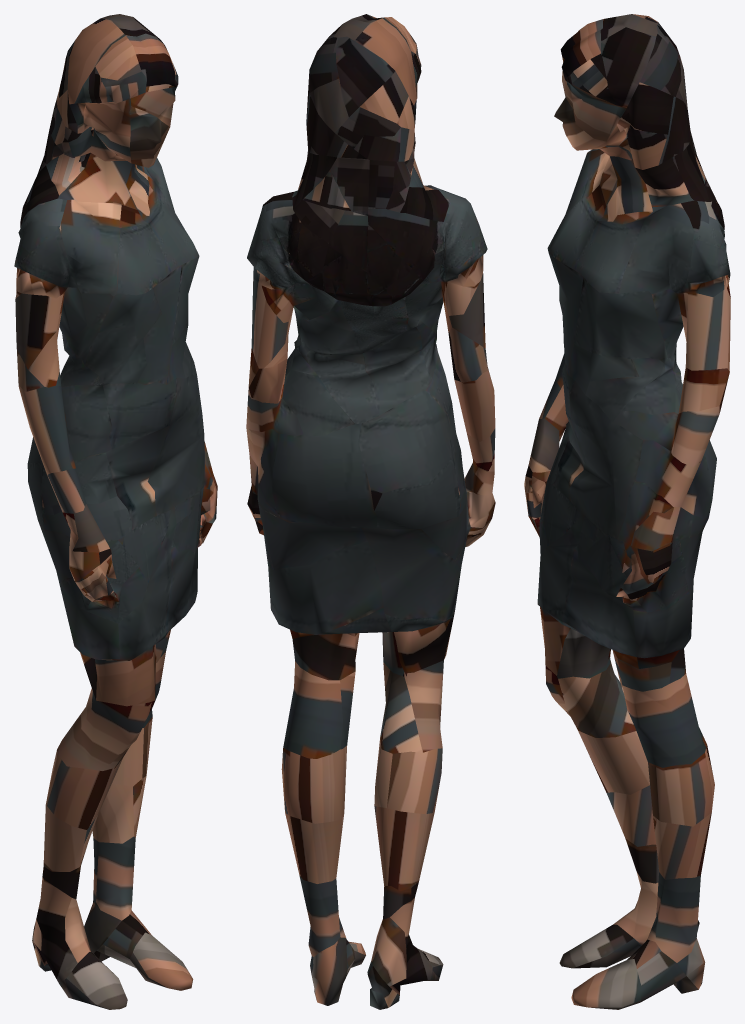
The model's file is passenger-adult-female.glb.
The picture shows the model from 3 angles, left to right: view 1: azimuth 30°, elevation 25°; view 2: azimuth 150°, elevation 25°; view 3: azimuth 270°, elevation 25°; orthographic projection.
Visible parts, largest first — view 1: mesh_node; view 2: mesh_node; view 3: mesh_node.
Part boxes in pixels (left/top/right/bottom): mesh_node: left=14, top=14, right=217, bottom=1009; mesh_node: left=246, top=14, right=495, bottom=1009; mesh_node: left=524, top=14, right=730, bottom=1009.
Bounding box in the file's own units: 0.444 × 1.9 × 0.3676.
Materials: 1 (1 with a texture image).
